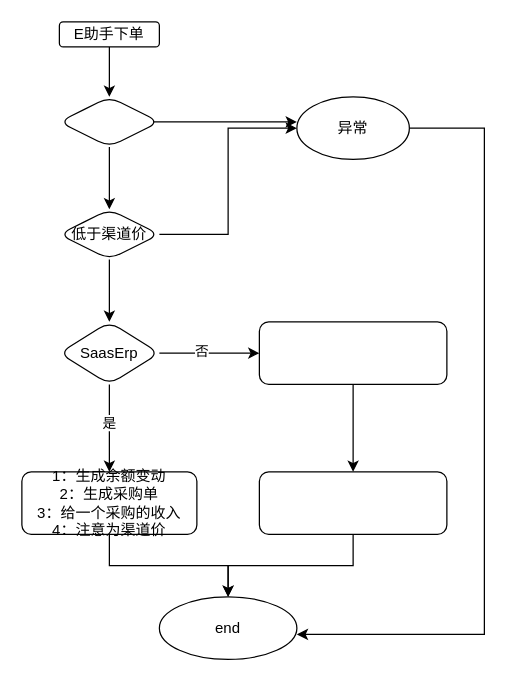
This 516x681 diagram has some shape labels left out. Each missing label, with the centre of its shape:
"1：触发线上打款 2：生成收入 3：注意按打款价" goes at point (352, 352).
"主|增值" goes at point (108, 121).
"生成分润" goes at point (352, 502).
